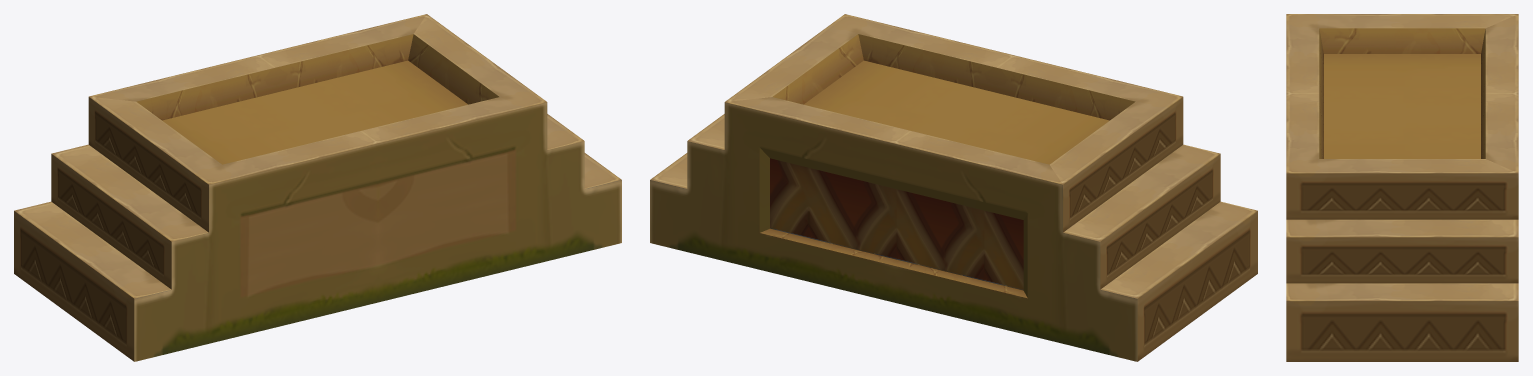
File: Remains_side_01.fbx
3 views of the same model, side by side, from view 1: azimuth 30°, elevation 25°; view 2: azimuth 150°, elevation 25°; view 3: azimuth 270°, elevation 25° (orthographic). The views are drawn at different scales.
Visible parts, largest first — view 1: Remains_side_01; view 2: Remains_side_01; view 3: Remains_side_01.
Part boxes in pixels (x1,y1,x2,y2): Remains_side_01: (14,14,621,361); Remains_side_01: (650,14,1257,361); Remains_side_01: (1286,14,1518,361).
Bounding box in the file's own units: 205 × 64.04 × 87.88.
